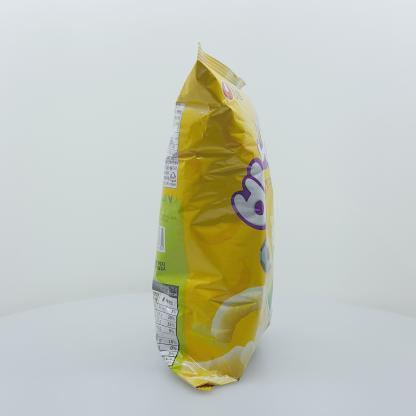Plastic Packaging: (143, 37, 291, 399)
